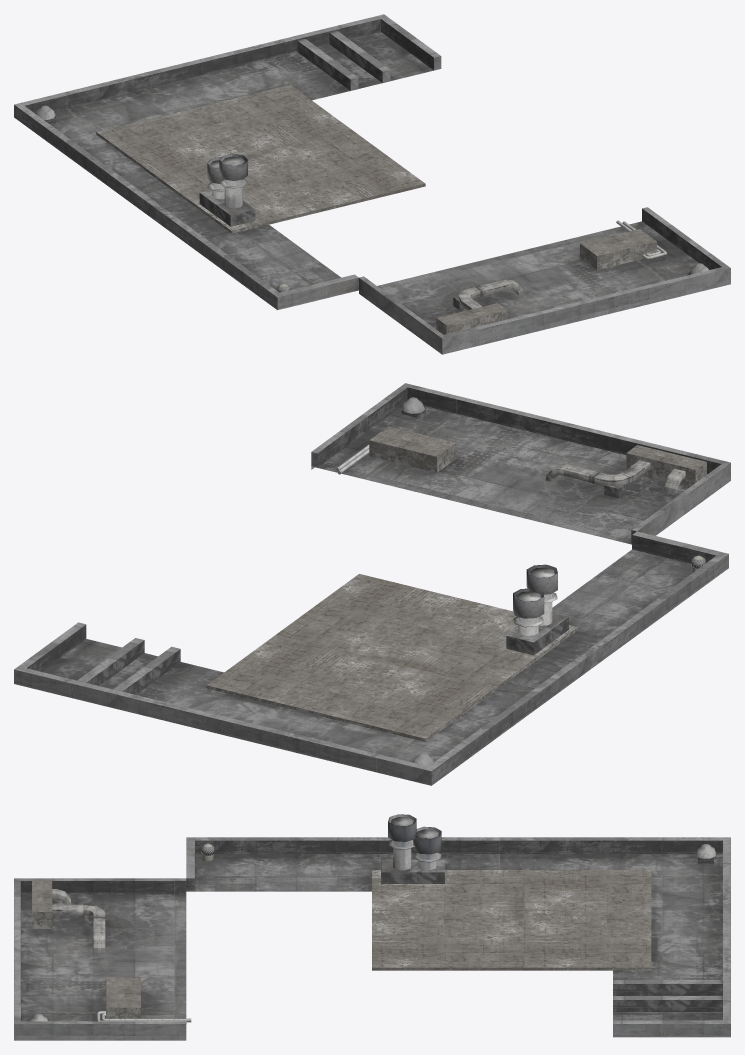
Rendered from roof01.fbx.
The picture shows the model from 3 angles, top to bottom: view 1: azimuth 30°, elevation 25°; view 2: azimuth 150°, elevation 25°; view 3: azimuth 270°, elevation 25°; orthographic projection. The views are drawn at different scales.
Visible parts, largest first — view 1: Object258, Box170, Object257, Box147, Box144, Box1489, Box1490, Box146, Cylinder510; view 2: Object258, Box170, Object257, Box147, Box144, Box146, Box1490, Box1489, Cylinder907, Cylinder510, Object267; view 3: Object258, Box170, Object257, Box1489, Box1490, Box147, Box146, Cylinder510, Box144, Cylinder907, Object267, Rectangle76.
Boxes of the visible parts, <box> form: Object258: <box>14,14,441,310</box>; Box170: <box>96,84,425,233</box>; Object257: <box>359,207,730,354</box>; Box147: <box>580,229,656,269</box>; Box144: <box>436,303,507,334</box>; Box1489: <box>297,38,358,90</box>; Box1490: <box>329,31,390,82</box>; Box146: <box>199,190,255,226</box>; Cylinder510: <box>219,154,247,208</box>; Object258: <box>14,531,728,785</box>; Box170: <box>206,574,577,741</box>; Object257: <box>311,383,730,544</box>; Box147: <box>369,426,455,472</box>; Box144: <box>626,445,706,487</box>; Box146: <box>506,613,568,655</box>; Box1490: <box>77,638,144,685</box>; Box1489: <box>113,646,180,694</box>; Cylinder907: <box>513,588,544,635</box>; Cylinder510: <box>526,564,557,625</box>; Object267: <box>583,464,644,485</box>; Object258: <box>186,837,730,1037</box>; Box170: <box>372,870,651,970</box>; Object257: <box>14,878,186,1040</box>; Box1489: <box>613,980,722,995</box>; Box1490: <box>613,996,722,1011</box>; Box147: <box>106,977,140,1018</box>; Box146: <box>381,860,444,883</box>; Cylinder510: <box>388,814,416,870</box>; Box144: <box>32,881,52,928</box>; Cylinder907: <box>413,826,441,870</box>; Object267: <box>62,904,105,921</box>; Rectangle76: <box>96,1011,191,1023</box>.
Size of the model in its own units: 27.17 by 4.57 by 44.09.
